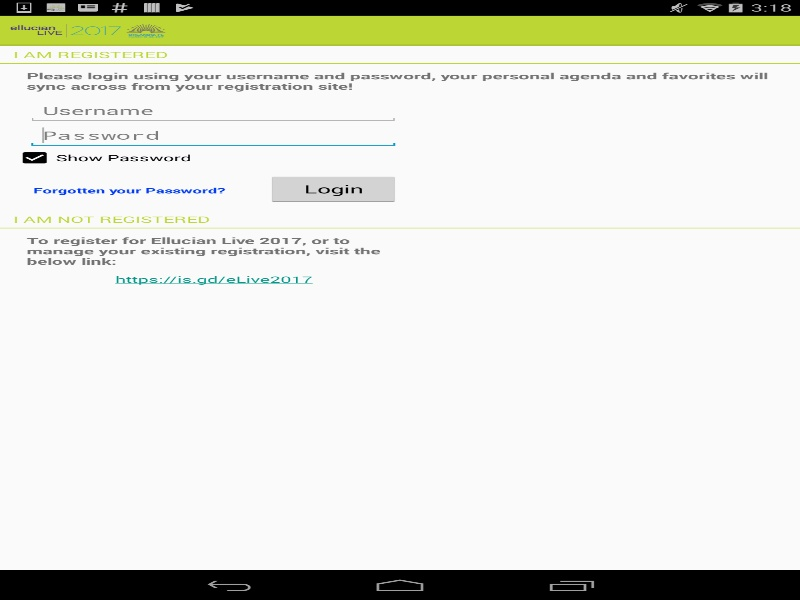Button: (266, 174, 400, 204)
Input: (26, 98, 400, 123), (26, 123, 400, 147)
